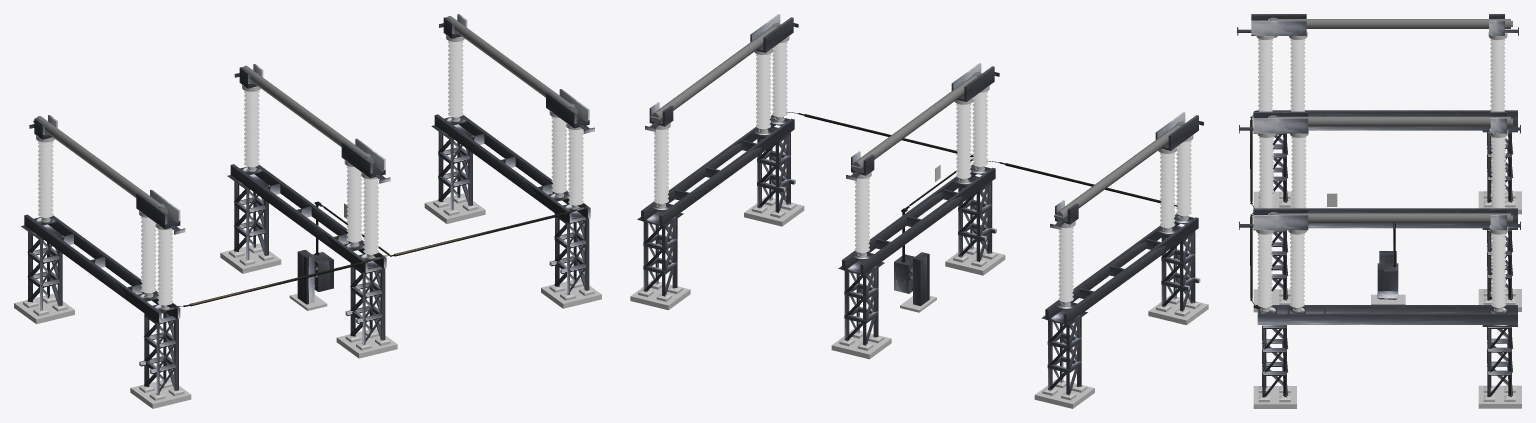
Rendered from CUCHILLA115.fbx.
3 views of the same model, side by side, from view 1: azimuth 30°, elevation 25°; view 2: azimuth 150°, elevation 25°; view 3: azimuth 270°, elevation 25° (orthographic). The views are drawn at different scales.
Visible parts, largest first — view 1: Cube.094, Cylinder.003, Cylinder.002, Cylinder.001; view 2: Cube.094, Cylinder.003, Cylinder.002, Cylinder.001; view 3: Cube.094, Cylinder.002, Cylinder.001, Cylinder.003.
Boxes of the visible parts, x1,y1,x2,y2 form: Cube.094: [14, 14, 601, 408]; Cylinder.003: [33, 116, 167, 213]; Cylinder.002: [243, 65, 373, 164]; Cylinder.001: [447, 16, 577, 115]; Cube.094: [630, 14, 1208, 408]; Cylinder.003: [1054, 121, 1184, 221]; Cylinder.002: [851, 72, 981, 171]; Cylinder.001: [650, 23, 780, 122]; Cube.094: [1237, 14, 1521, 408]; Cylinder.002: [1268, 115, 1512, 134]; Cylinder.001: [1268, 212, 1512, 232]; Cylinder.003: [1268, 17, 1512, 37].
Bounding box in the file's own units: 1463 × 600 × 827.
